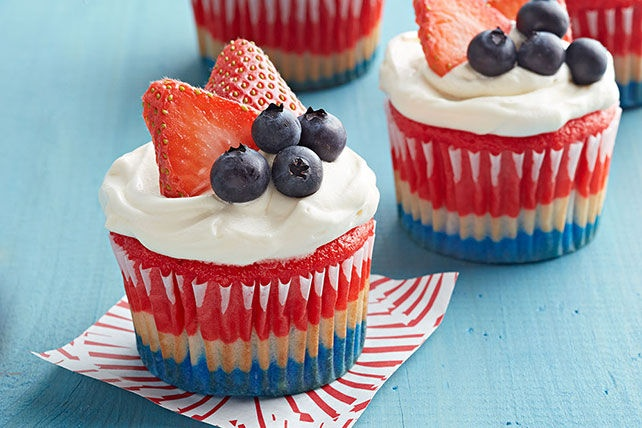background: (100, 25, 381, 191), (244, 0, 621, 104)
